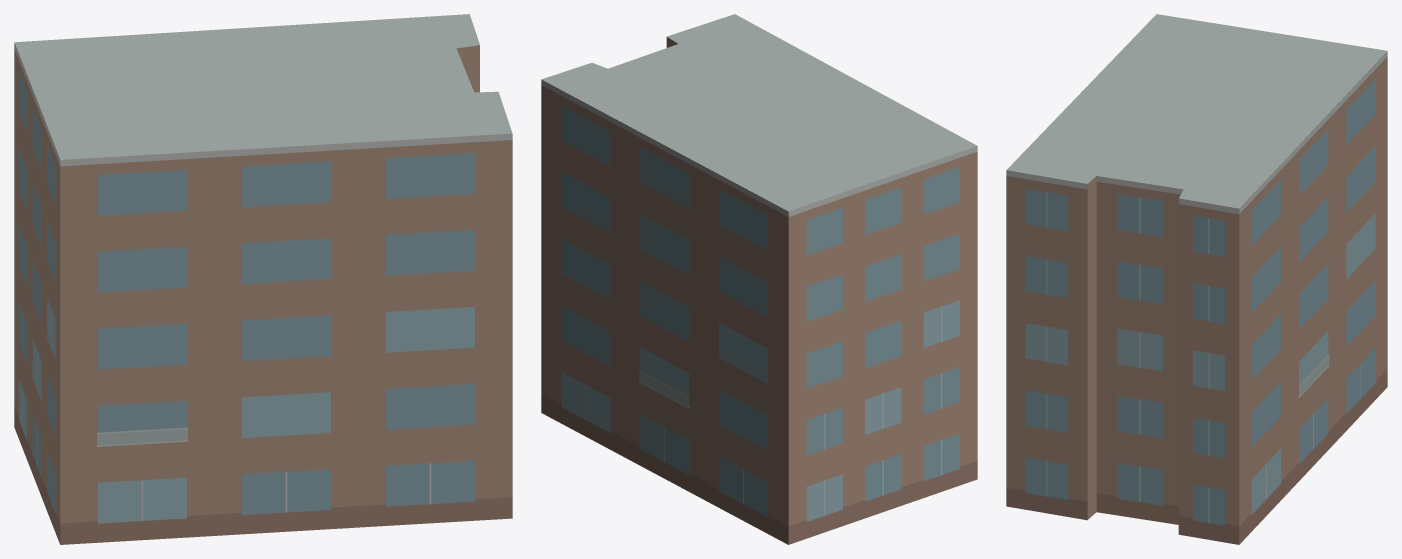
File: survey-upis-32967294.glb
The picture shows the model from 3 angles, left to right: view 1: azimuth 30°, elevation 25°; view 2: azimuth 150°, elevation 25°; view 3: azimuth 270°, elevation 25°; orthographic projection. The views are drawn at different scales.
Visible parts, largest first — view 1: survey-upis-32967294.tmp; view 2: survey-upis-32967294.tmp; view 3: survey-upis-32967294.tmp.
Part boxes in pixels (box(x1,y1,x2,y2)): survey-upis-32967294.tmp: box(14, 14, 512, 544); survey-upis-32967294.tmp: box(541, 14, 977, 544); survey-upis-32967294.tmp: box(1006, 14, 1387, 544).
Bounding box in the file's own units: 18.14 × 14.6 × 15.01.
